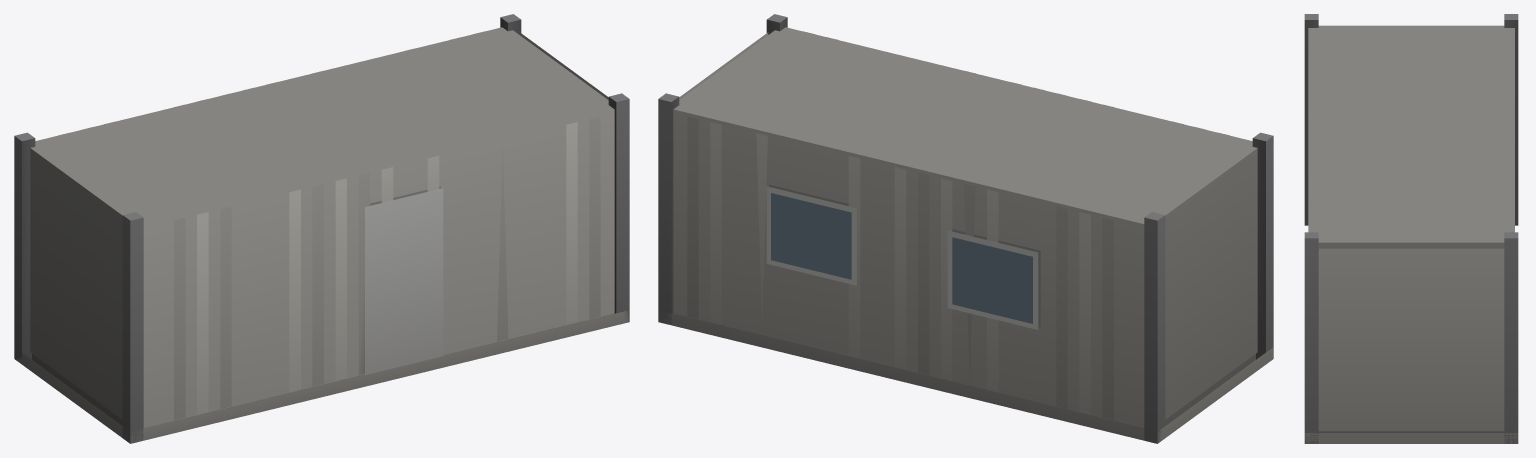
The model's file is box_office.lod.glb.
3 renders of one model, left to right at view 1: azimuth 30°, elevation 25°; view 2: azimuth 150°, elevation 25°; view 3: azimuth 270°, elevation 25°, orthographic. The views are drawn at different scales.
Parts seen in each view (by area): view 1: box_office; view 2: box_office; view 3: box_office.
Part boxes in pixels (x1,y1,x2,y2): box_office: (14,14,629,443); box_office: (658,14,1273,443); box_office: (1304,14,1518,443).
Bounding box in the file's own units: 6.06 × 2.59 × 2.51.
